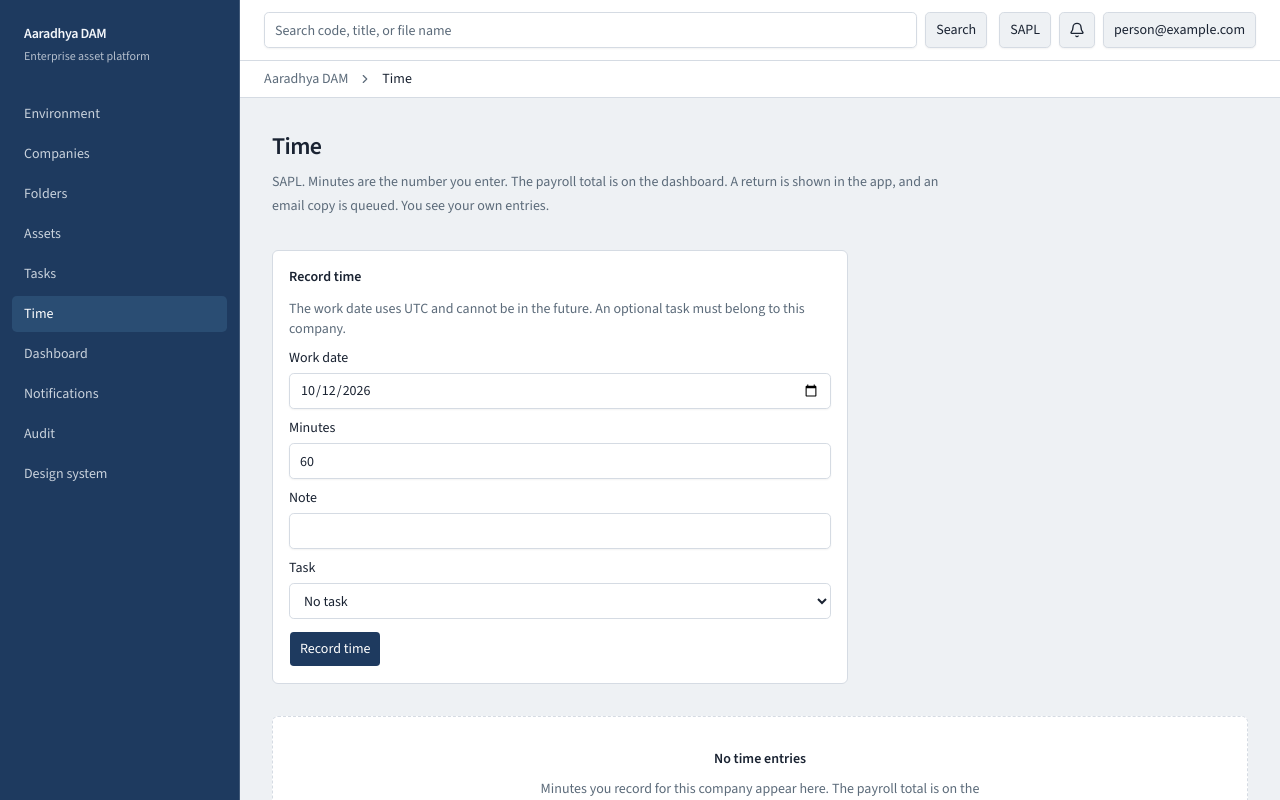
Test: TimePage › records the minutes that were entered
expect the heading "Record time" is shown: met, box [289, 267, 362, 286]
expect the text "You see your own entries" is shown: met, box [272, 172, 938, 215]
Step 1. Replace the text in the number field labelled "Minutes" with "90" → {"x": 560, "y": 461}, box [289, 443, 831, 479]
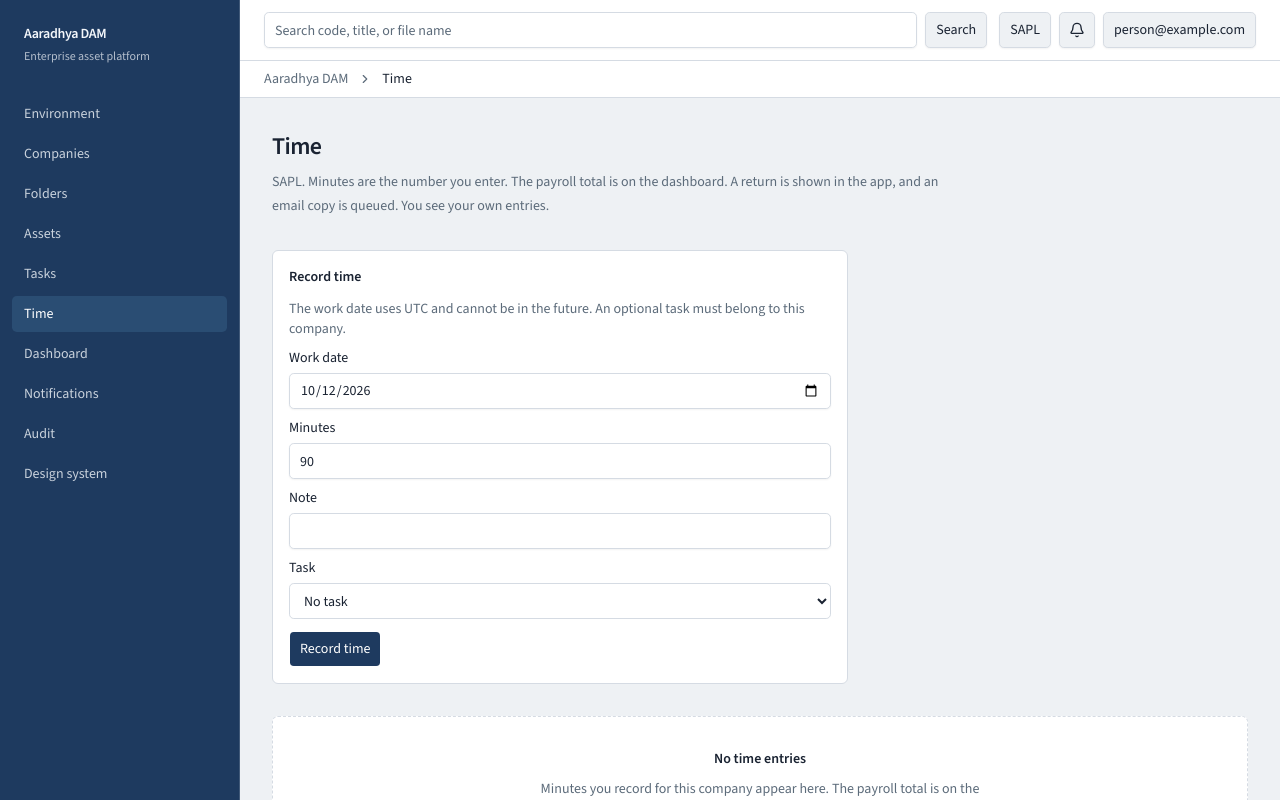
Step 2. Click the button "Record time" → {"x": 335, "y": 649}, box [289, 631, 382, 667]
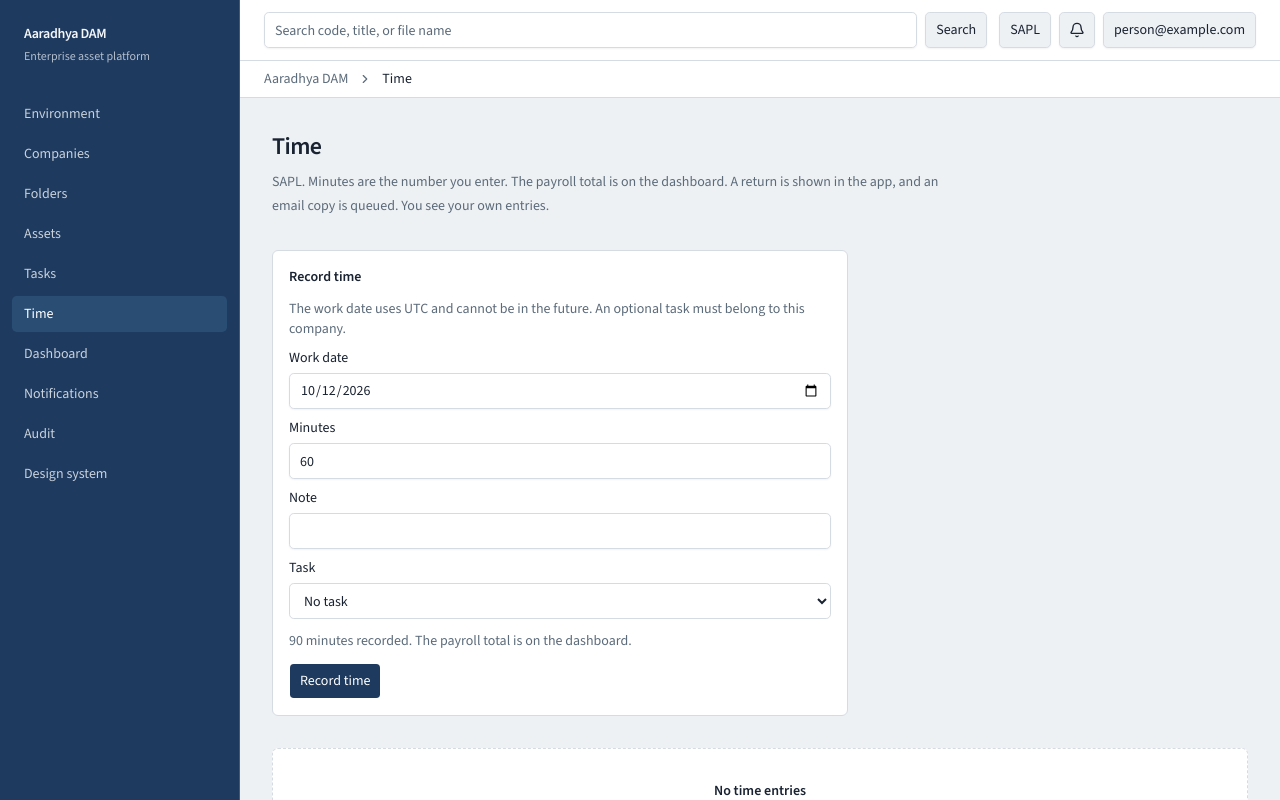
expect the text "90 minutes recorded. The payroll total is on the dashboard." is shown: met, box [289, 631, 632, 650]
